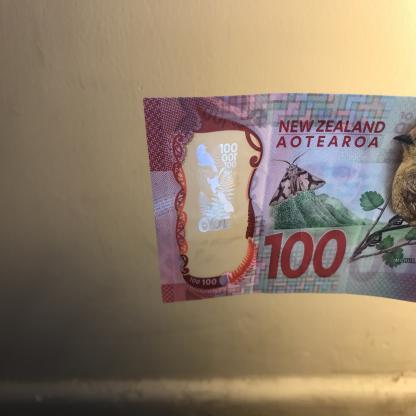100B: (190, 140, 242, 256)
